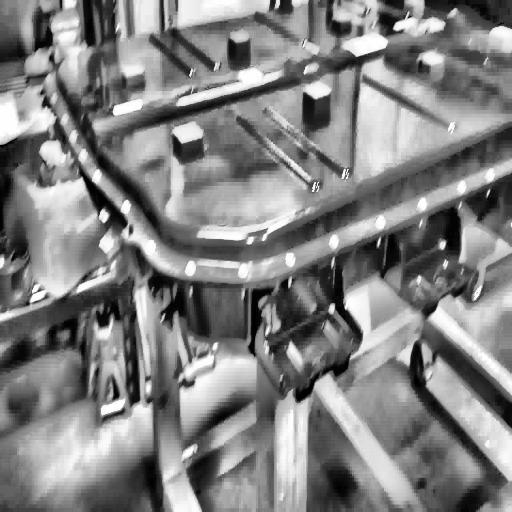b_casing: (35, 0, 512, 311)
nut: (182, 258, 197, 278), (236, 260, 250, 281), (144, 236, 157, 258), (90, 166, 104, 185), (374, 212, 387, 232), (284, 250, 297, 270), (77, 144, 88, 166), (328, 233, 340, 253), (120, 198, 133, 216), (456, 178, 468, 194), (49, 90, 60, 106), (60, 111, 70, 128), (68, 128, 78, 144), (417, 198, 428, 212), (486, 167, 495, 182)
